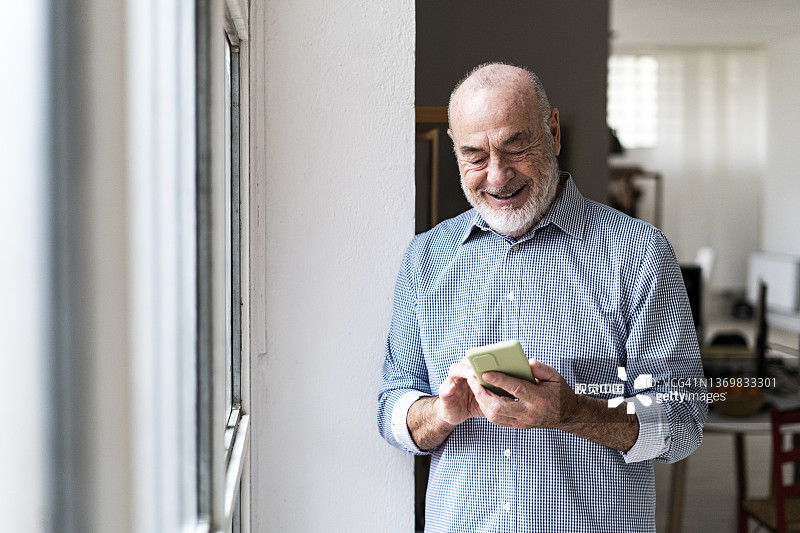reading: (427, 339, 579, 446)
